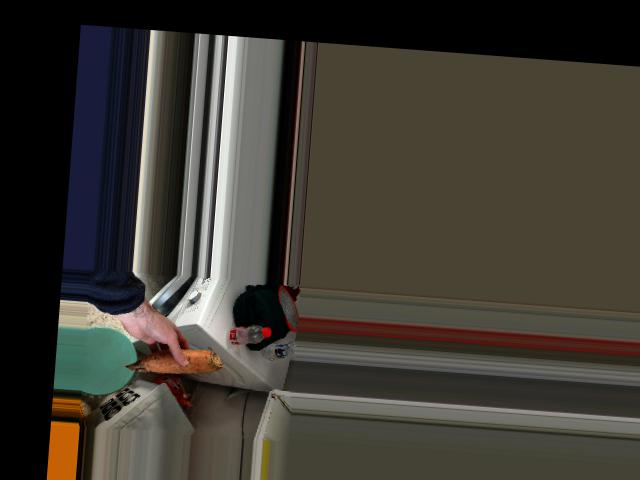sweet_potato: (127, 341, 225, 378)
